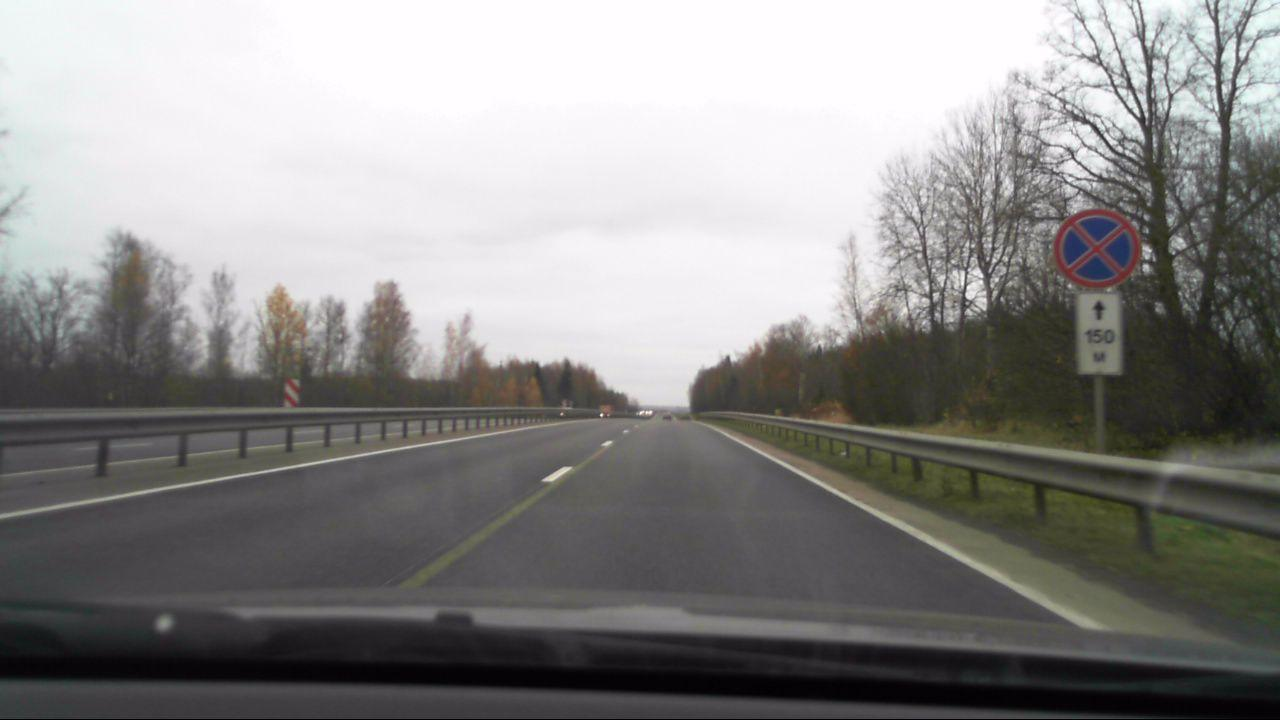3_27: (1053, 204, 1143, 287)
8_22_1: (285, 378, 301, 405)
8_2_2: (1070, 291, 1127, 378)
